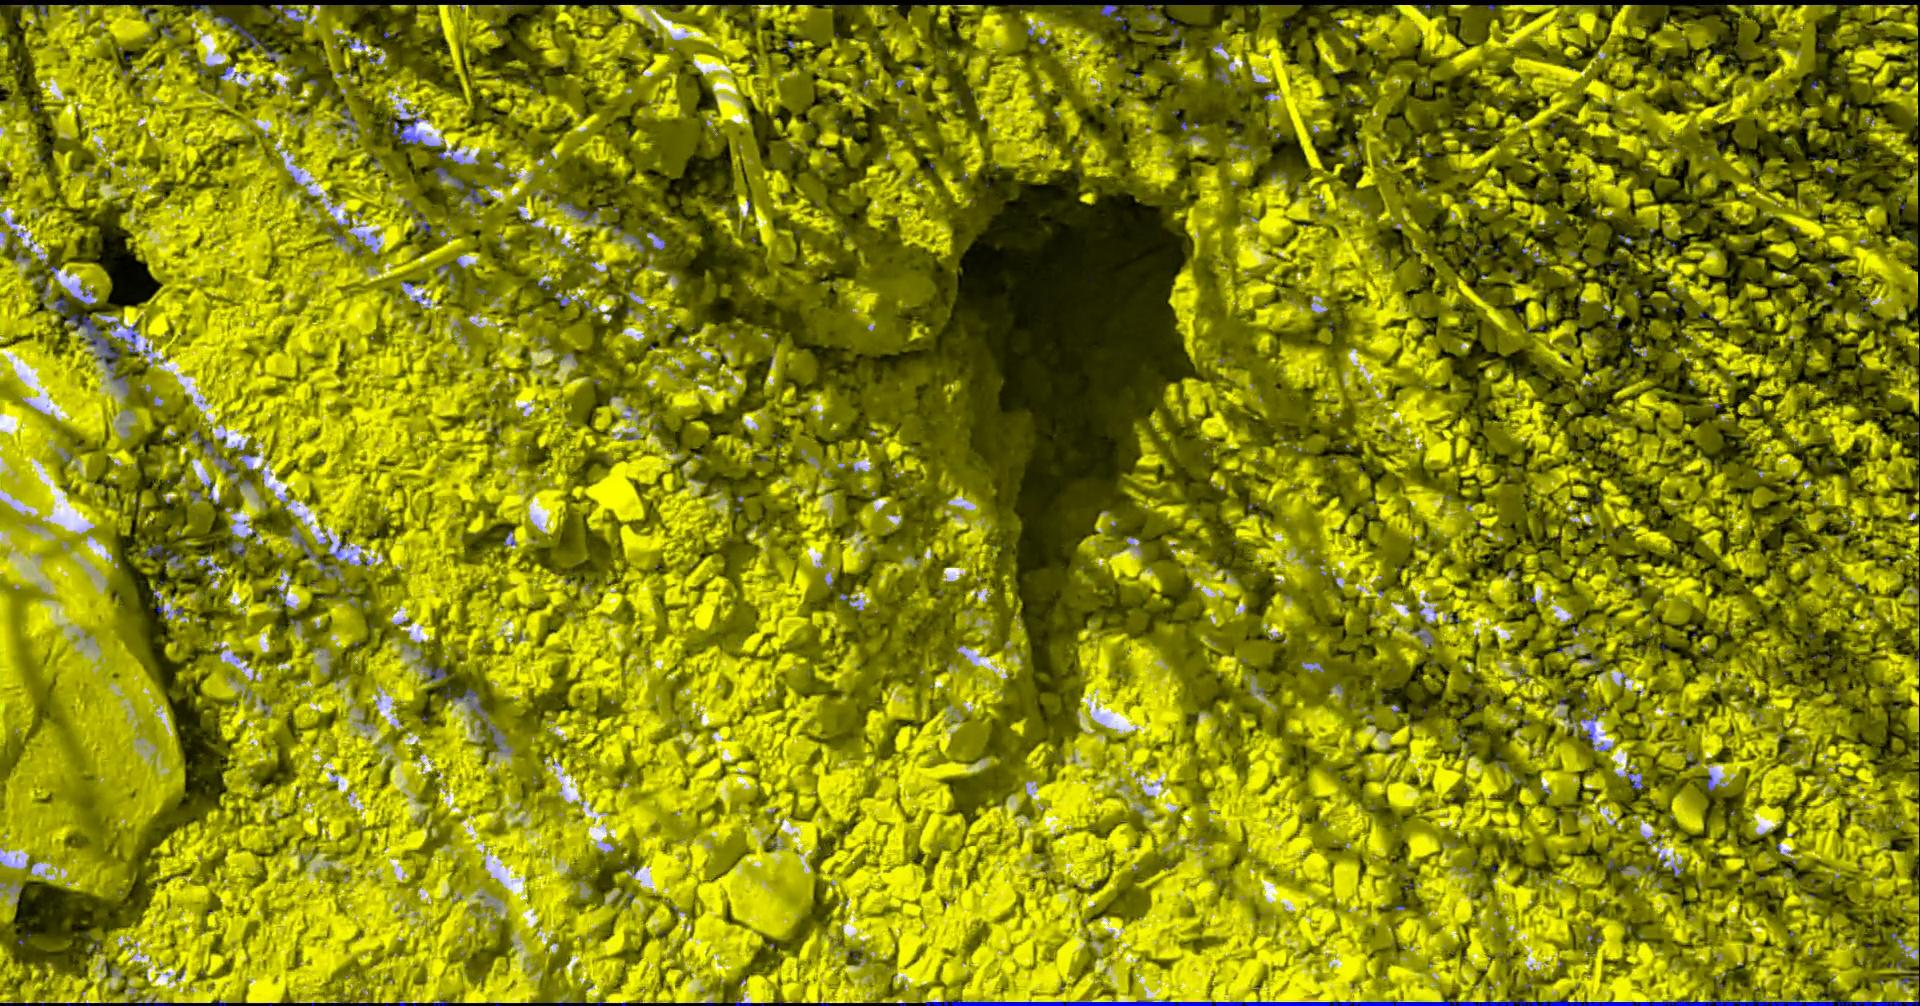ant: (213, 11, 281, 61), (63, 312, 119, 371), (391, 109, 420, 144), (137, 542, 183, 563), (1577, 653, 1603, 673), (444, 685, 477, 700), (1098, 4, 1126, 22), (465, 180, 485, 205), (427, 663, 446, 680), (127, 324, 137, 352), (1627, 772, 1644, 788), (55, 297, 69, 312)
